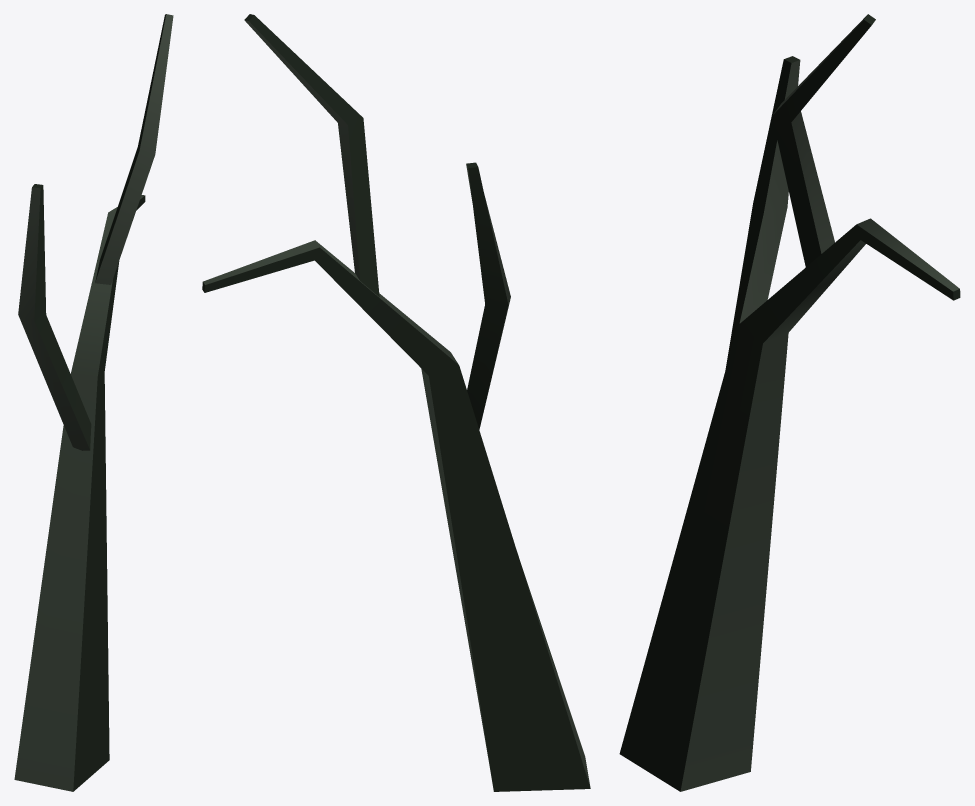
File: SF_Env_Tree_Burnt_02.glb
The picture shows the model from 3 angles, left to right: view 1: azimuth 30°, elevation 25°; view 2: azimuth 150°, elevation 25°; view 3: azimuth 270°, elevation 25°; orthographic projection. The views are drawn at different scales.
Visible parts, largest first — view 1: SF_Env_Tree_Burnt_02; view 2: SF_Env_Tree_Burnt_02; view 3: SF_Env_Tree_Burnt_02.
Part boxes in pixels (x1,y1,x2,y2): SF_Env_Tree_Burnt_02: (14,14,173,791); SF_Env_Tree_Burnt_02: (202,14,590,791); SF_Env_Tree_Burnt_02: (619,14,960,791).
Bounding box in the file's own units: 0.0267 × 0.0727 × 0.0261.
1 material, 1 textured.
